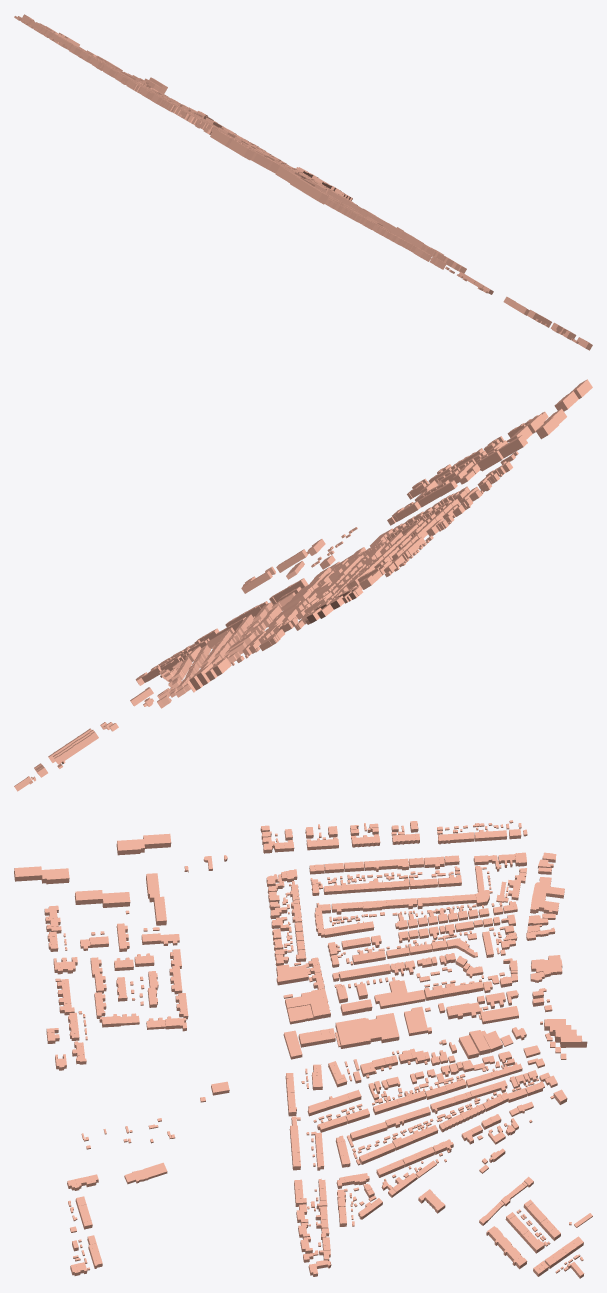
The picture shows the model from 3 angles, top to bottom: view 1: azimuth 30°, elevation 25°; view 2: azimuth 150°, elevation 25°; view 3: azimuth 270°, elevation 25°; orthographic projection. The views are drawn at different scales.
Bounding box in the file's own units: 510 × 378 × 679.
